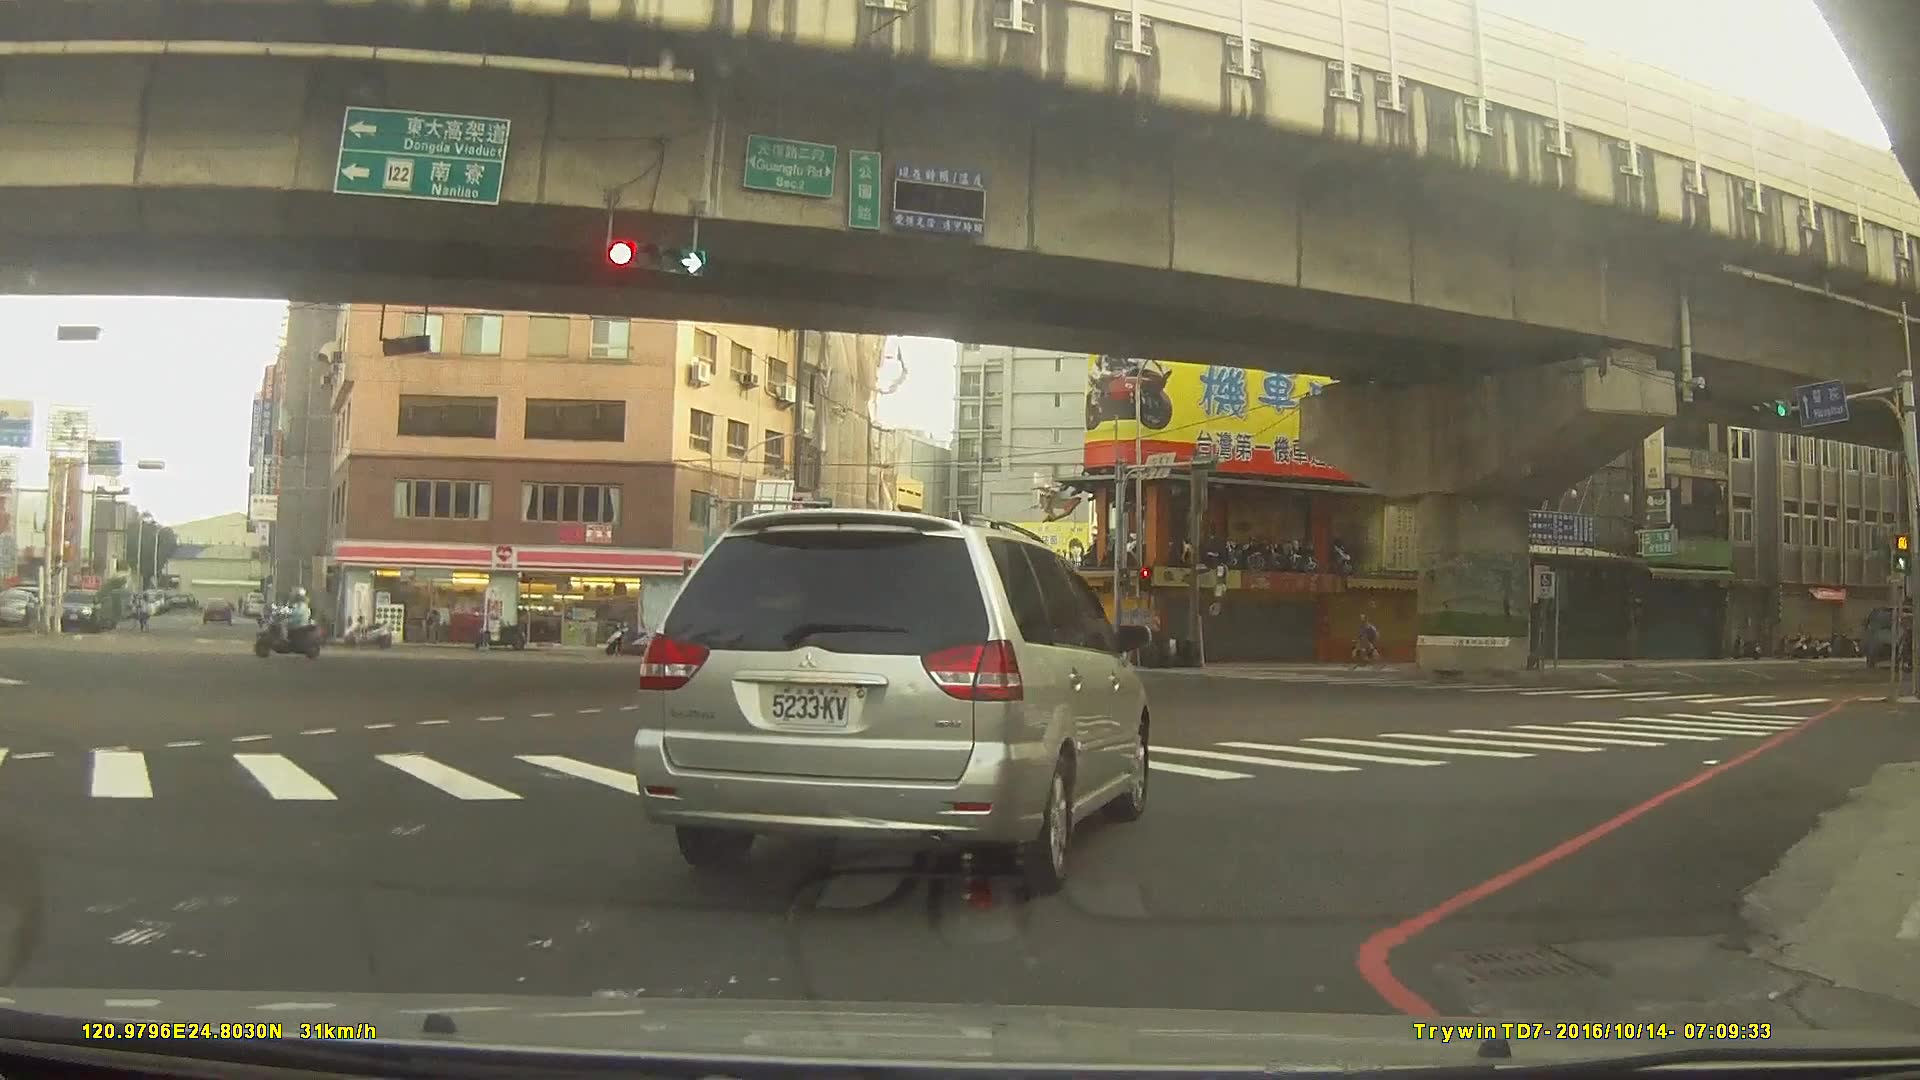rider: (255, 590, 331, 660), (1338, 614, 1389, 674)
vehicle: (633, 507, 1153, 886), (1861, 604, 1920, 668), (864, 629, 934, 669), (55, 587, 100, 632), (543, 606, 605, 633), (198, 595, 232, 622)
